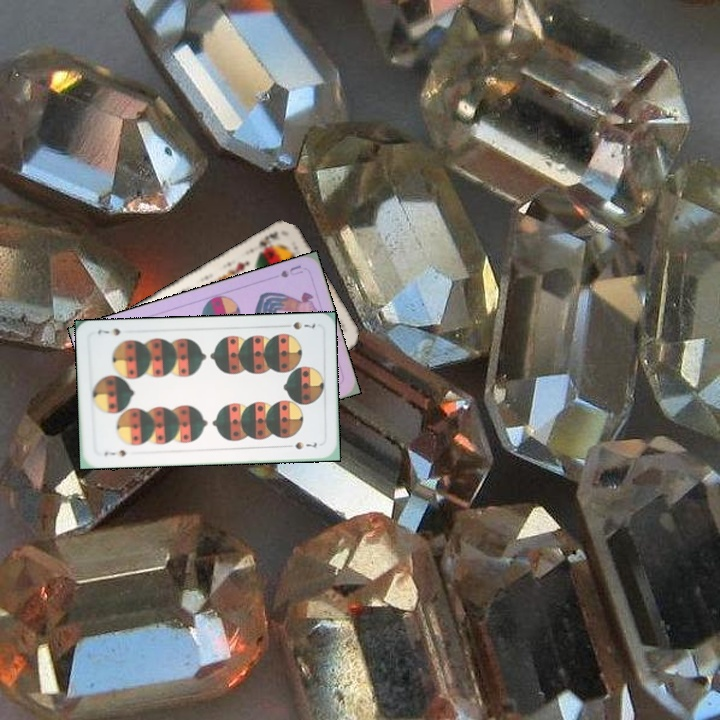S7: (279, 318, 318, 332), (100, 446, 128, 459)
SK: (252, 227, 281, 259)
SU: (276, 261, 305, 280)
